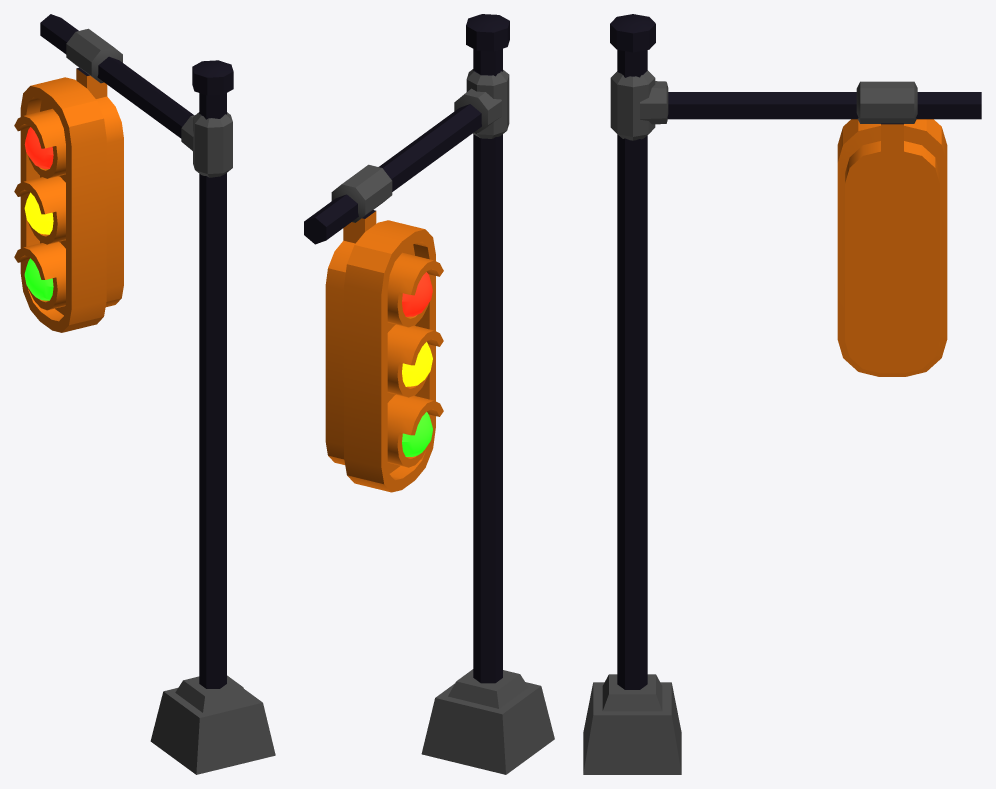
Rendered from traffic light2.fbx.
3 views of the same model, side by side, from view 1: azimuth 30°, elevation 25°; view 2: azimuth 150°, elevation 25°; view 3: azimuth 270°, elevation 25° (orthographic). The views are drawn at different scales.
Visible parts, largest first — view 1: Traffic Light_L.002; view 2: Traffic Light_L.002; view 3: Traffic Light_L.002.
Boxes of the visible parts, x1,y1,x2,y2 form: Traffic Light_L.002: (14,14,275,774); Traffic Light_L.002: (304,14,554,774); Traffic Light_L.002: (583,14,981,774).
Size of the model in its own units: 109 by 334 by 678.
